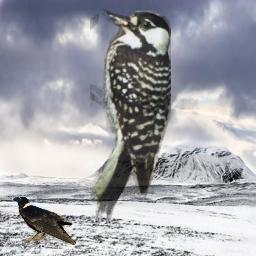Crow: (12, 195, 76, 245)
Woodpecker: (90, 8, 171, 226)
